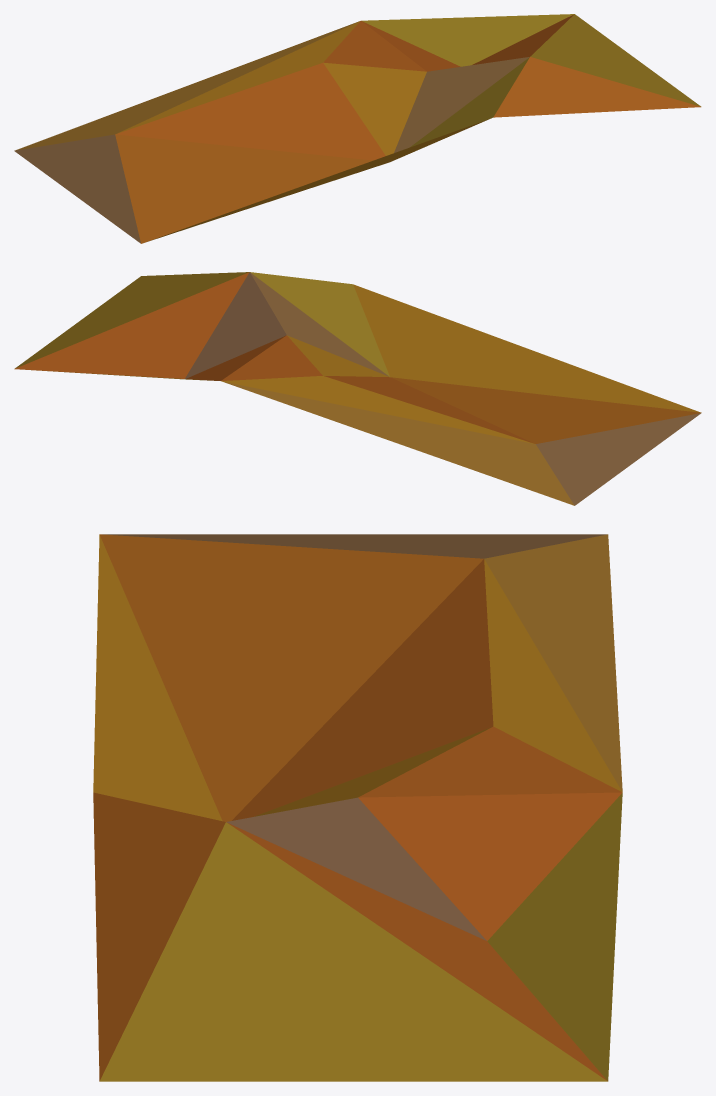
File: Chest-A_Treasure.fbx
3 views of the same model, one above another, from view 1: azimuth 30°, elevation 25°; view 2: azimuth 150°, elevation 25°; view 3: azimuth 270°, elevation 25° (orthographic). The views are drawn at different scales.
Visible parts, largest first — view 1: Chest-A_Treasure; view 2: Chest-A_Treasure; view 3: Chest-A_Treasure.
Boxes of the visible parts, x1,y1,x2,y2 form: Chest-A_Treasure: [14, 14, 701, 243]; Chest-A_Treasure: [14, 272, 701, 505]; Chest-A_Treasure: [93, 534, 622, 1081].
Bounding box in the file's own units: 120 × 14.55 × 49.1.
